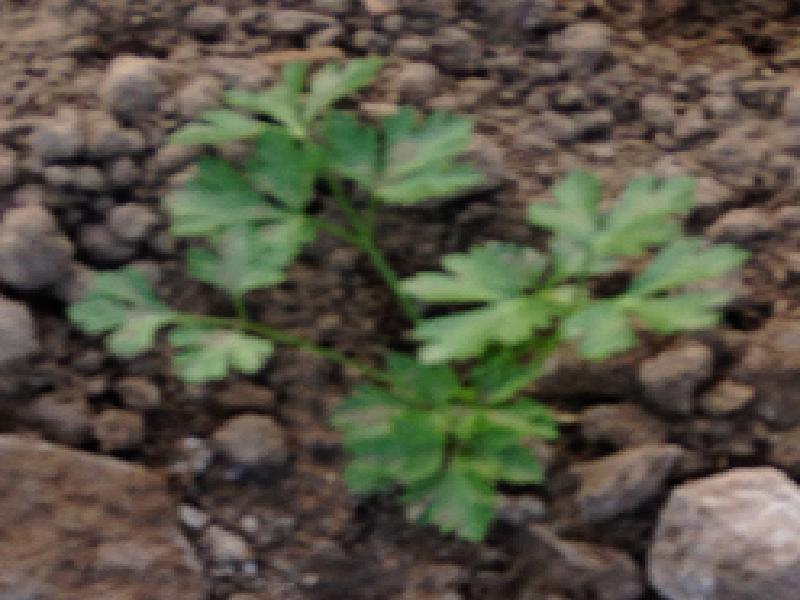radish: (39, 0, 800, 600)
